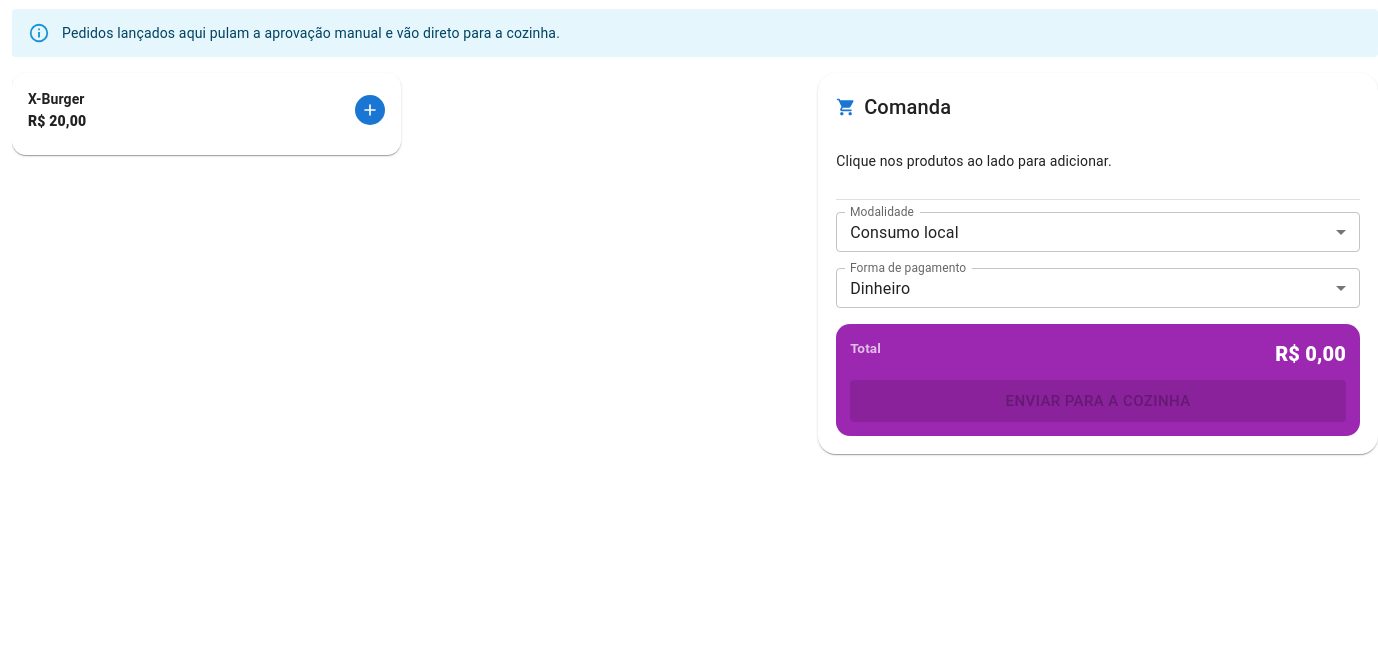
Scenario: PdvPage › delivery sem endereço preenchido bloqueia o envio
Click the heading "X-Burger". click: (57, 100)
box: [28,89,86,111]
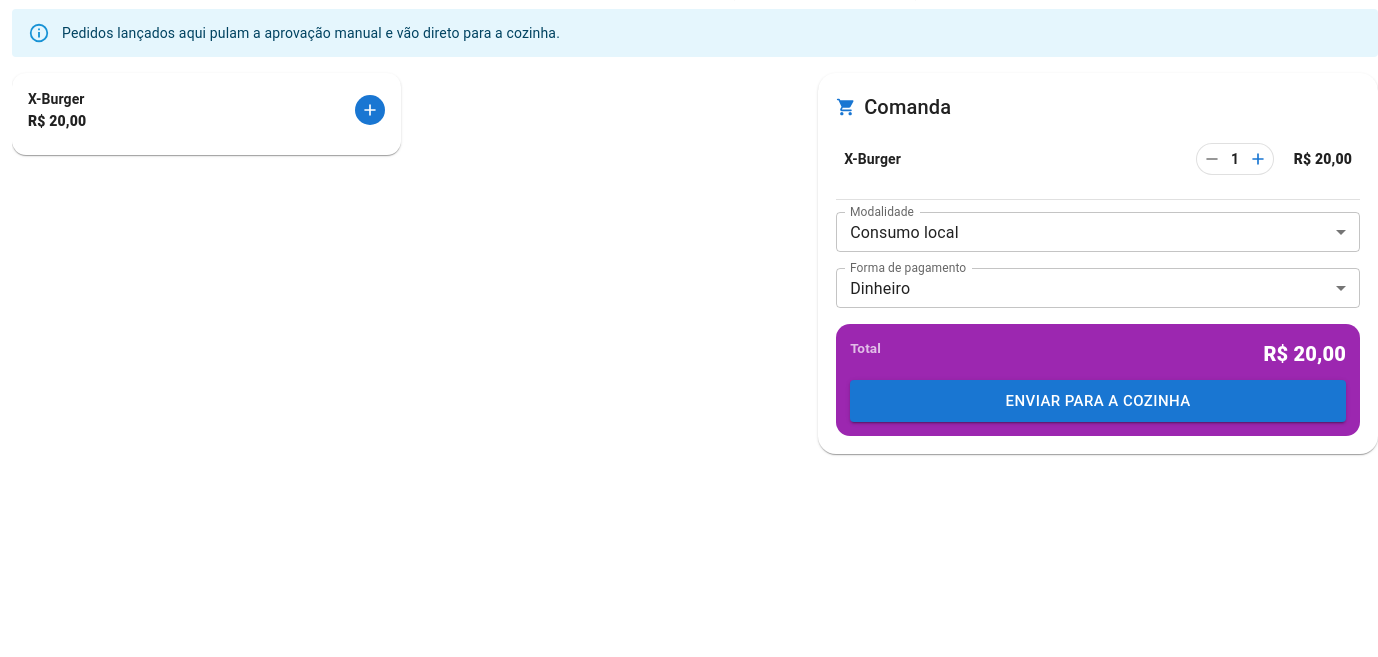
Click the dropdown named "Modalidade". click: (904, 232)
box: [850,222,959,242]
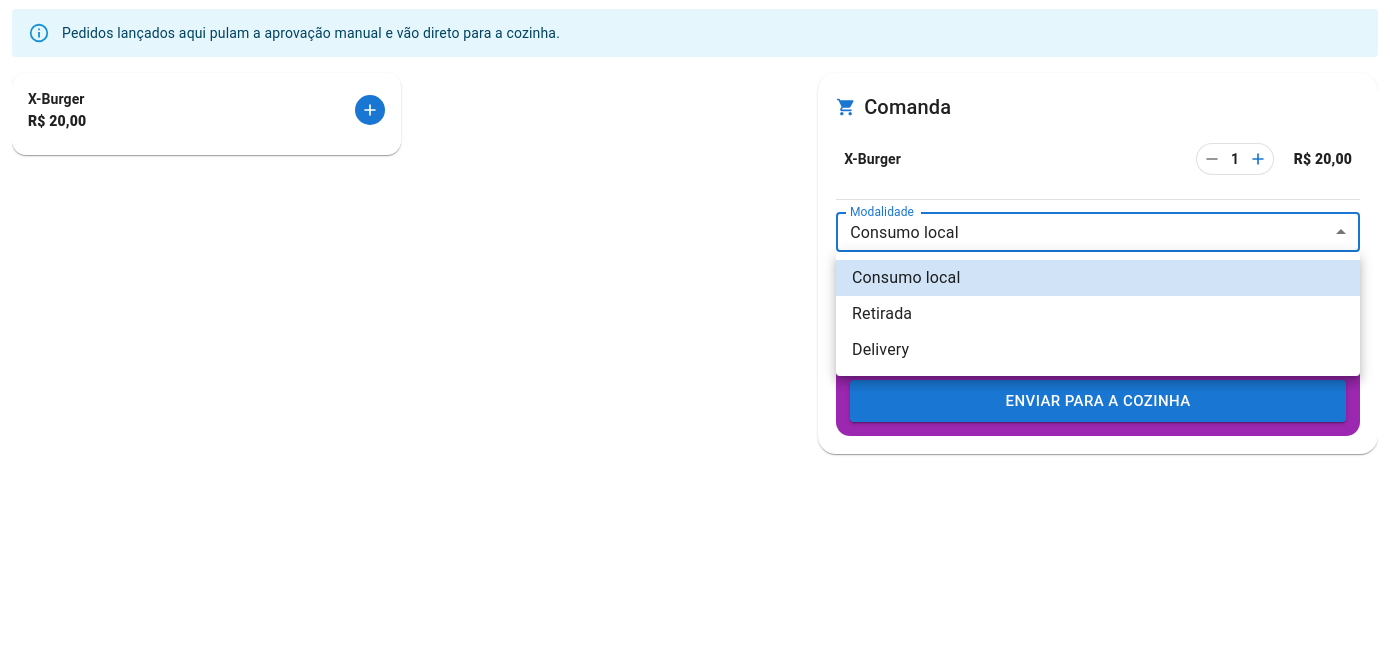
Click the option "Delivery". click: (881, 350)
box: [852,340,909,359]
(page scrolled)
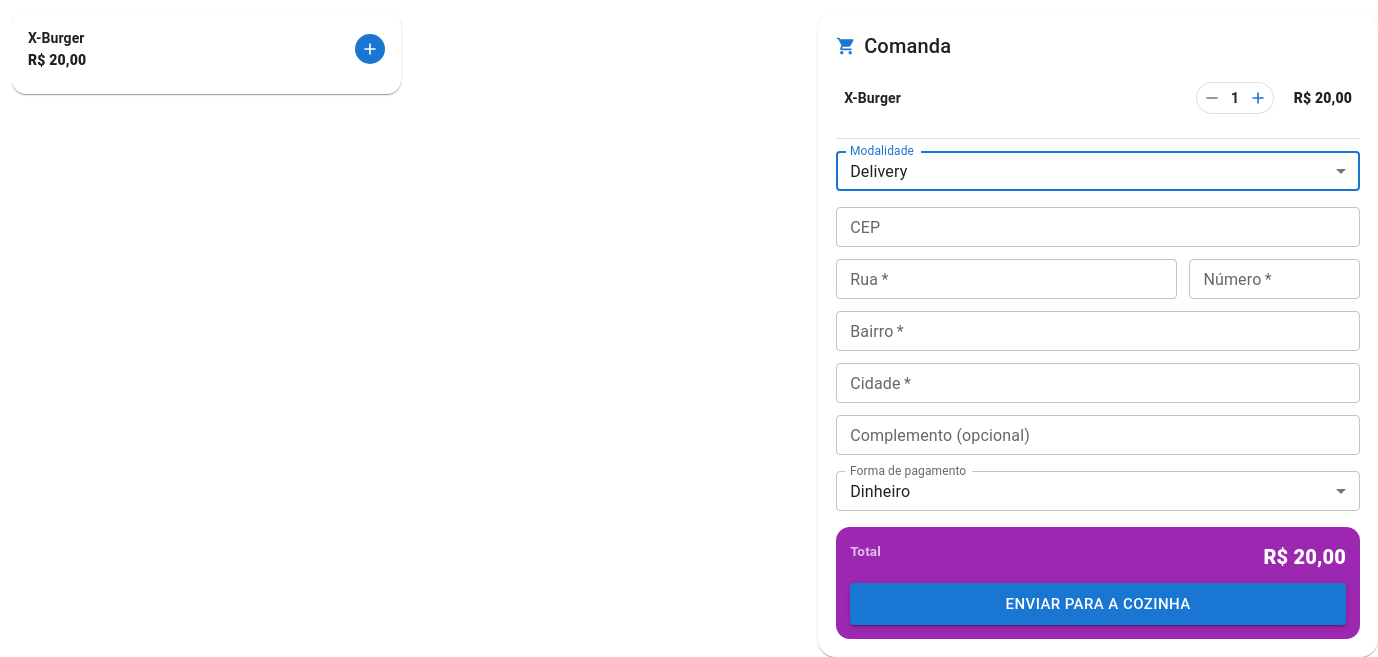
Click the button "Enviar para a cozinha". click: (1098, 604)
box: [850,583,1346,625]
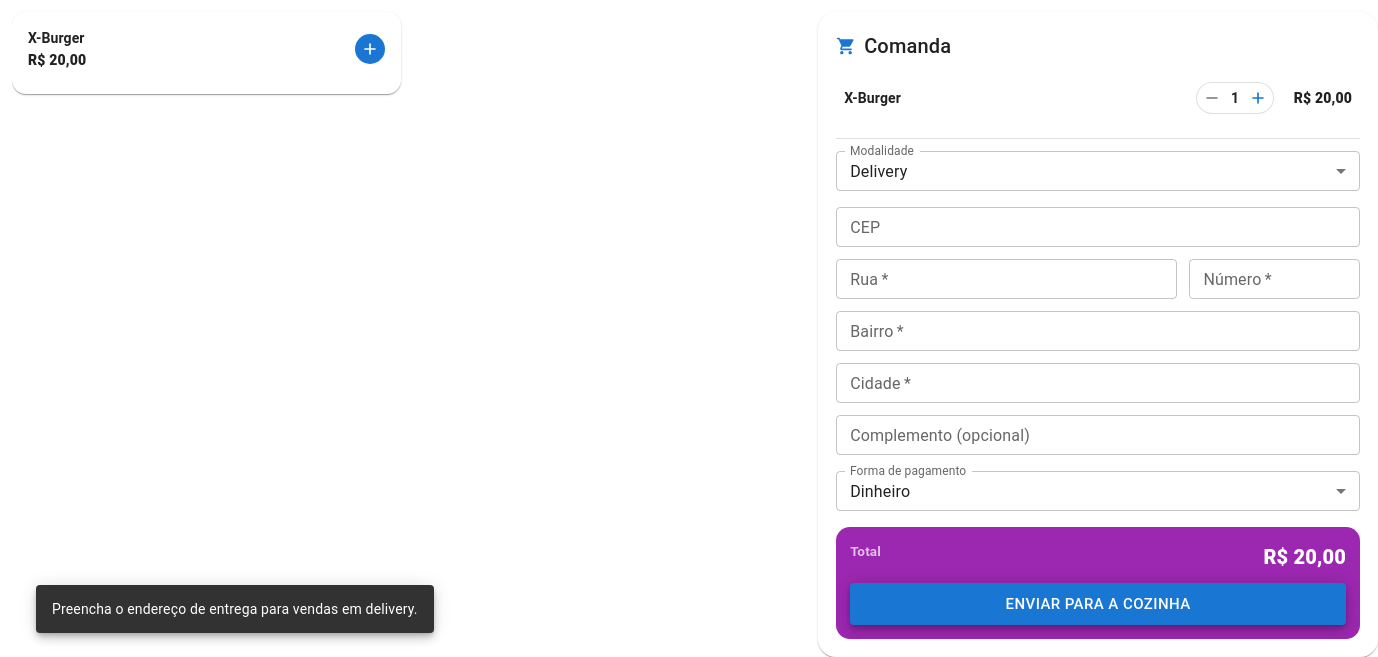
Expected: the text "Preencha o endereço de entrega para vendas em delivery." is shown, [52,601,418,617]
